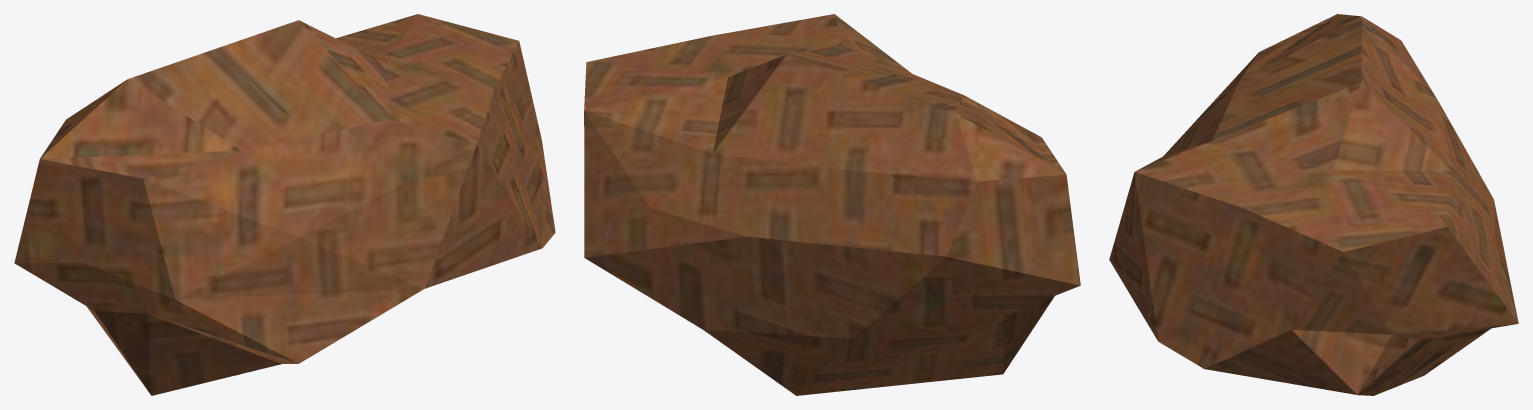
File: debris_hull_fragment.glb
The picture shows the model from 3 angles, left to right: view 1: azimuth 30°, elevation 25°; view 2: azimuth 150°, elevation 25°; view 3: azimuth 270°, elevation 25°; orthographic projection.
Visible parts, largest first — view 1: HullFragment; view 2: HullFragment; view 3: HullFragment.
Part boxes in pixels (x1,y1,x2,y2): HullFragment: (14, 14, 555, 395); HullFragment: (584, 14, 1080, 395); HullFragment: (1109, 14, 1518, 395).
Size of the model in its own units: 3.03 by 1.8 by 2.13.
Materials: 1 (1 with a texture image).
